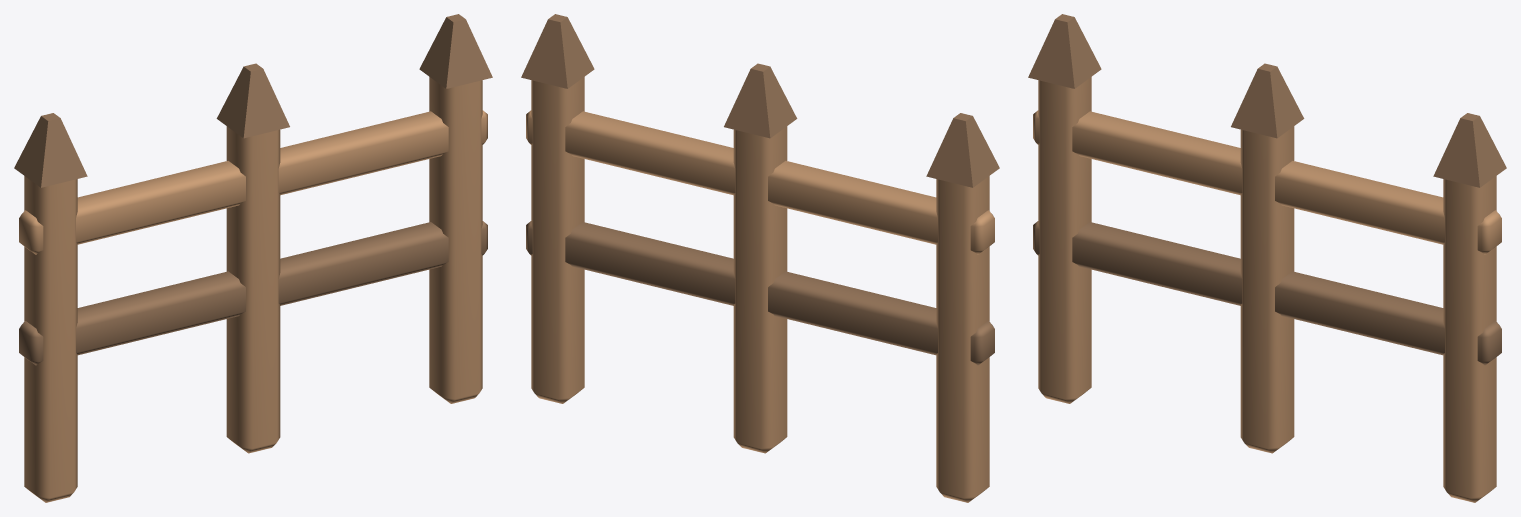
The model's file is MYB96_WoodFenceSegment.fbx.
3 renders of one model, left to right at view 1: azimuth 30°, elevation 25°; view 2: azimuth 150°, elevation 25°; view 3: azimuth 330°, elevation 25°, orthographic.
Parts seen in each view (by area): view 1: rail_high, rail_low, post_0, post_-0.46, post_0.46, post_cap_-0.46, post_cap_0.46, post_cap_0; view 2: rail_high, rail_low, post_0, post_-0.46, post_0.46, post_cap_-0.46, post_cap_0.46, post_cap_0; view 3: rail_high, rail_low, post_0, post_0.46, post_-0.46, post_cap_-0.46, post_cap_0.46, post_cap_0.
Part boxes in pixels (x1,y1,x2,y2): rail_high: [19, 110, 487, 254]; rail_low: [19, 221, 487, 365]; post_0: [226, 126, 280, 453]; post_-0.46: [24, 176, 77, 502]; post_0.46: [429, 77, 482, 403]; post_cap_-0.46: [14, 113, 87, 187]; post_cap_0.46: [419, 14, 492, 88]; post_cap_0: [216, 63, 289, 138]; rail_high: [526, 110, 994, 254]; rail_low: [526, 221, 994, 365]; post_0: [733, 126, 787, 453]; post_-0.46: [936, 176, 989, 502]; post_0.46: [531, 77, 584, 403]; post_cap_-0.46: [926, 113, 999, 187]; post_cap_0.46: [521, 14, 594, 88]; post_cap_0: [724, 63, 797, 138]; rail_high: [1033, 110, 1501, 254]; rail_low: [1033, 221, 1501, 365]; post_0: [1240, 126, 1294, 453]; post_0.46: [1443, 176, 1496, 502]; post_-0.46: [1038, 77, 1091, 403]; post_cap_-0.46: [1028, 14, 1101, 88]; post_cap_0.46: [1433, 113, 1506, 187]; post_cap_0: [1231, 63, 1304, 138].
Size of the model in its own units: 104 by 82 by 10.61.
